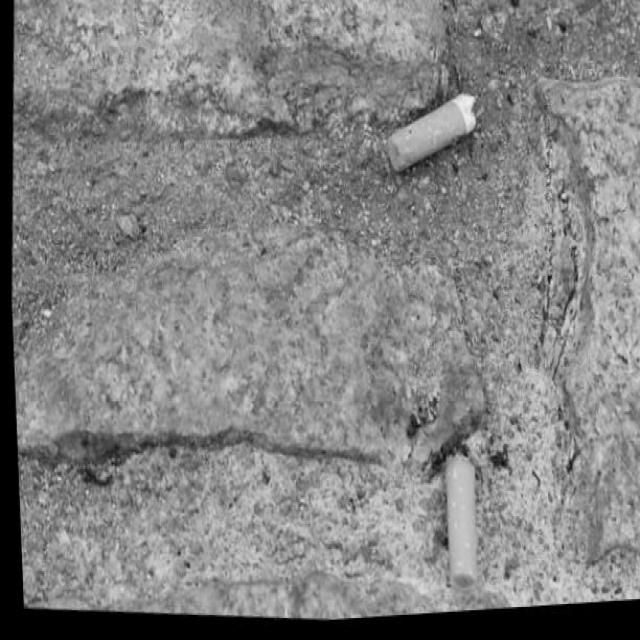cigarette: (380, 81, 484, 197), (428, 437, 483, 609)
